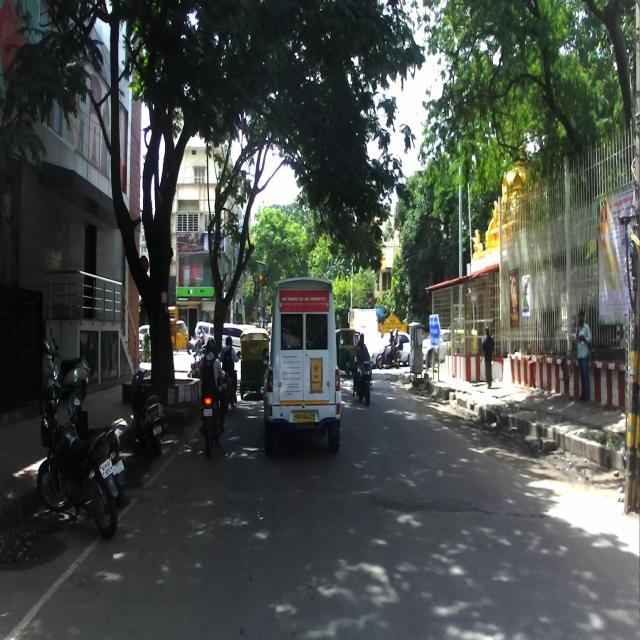mini-bus: (262, 274, 341, 450)
motorcycle: (32, 364, 120, 540)
scooter: (130, 356, 168, 462), (48, 324, 92, 400)
